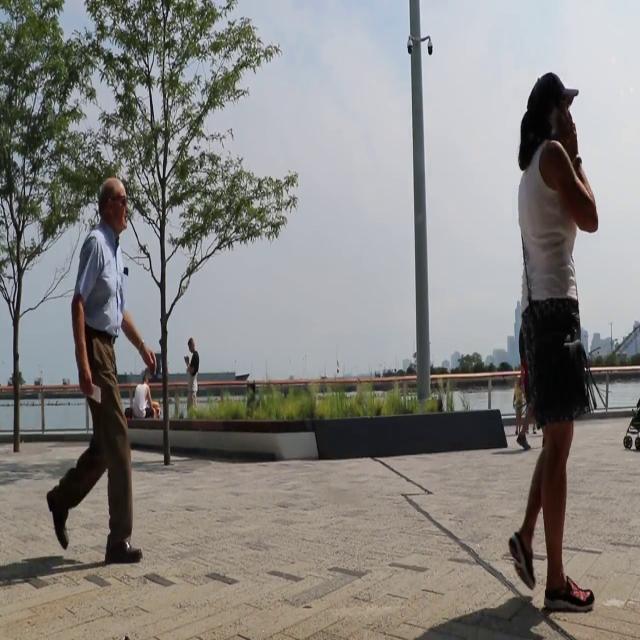normal: (504, 68, 606, 618), (45, 175, 149, 572)
